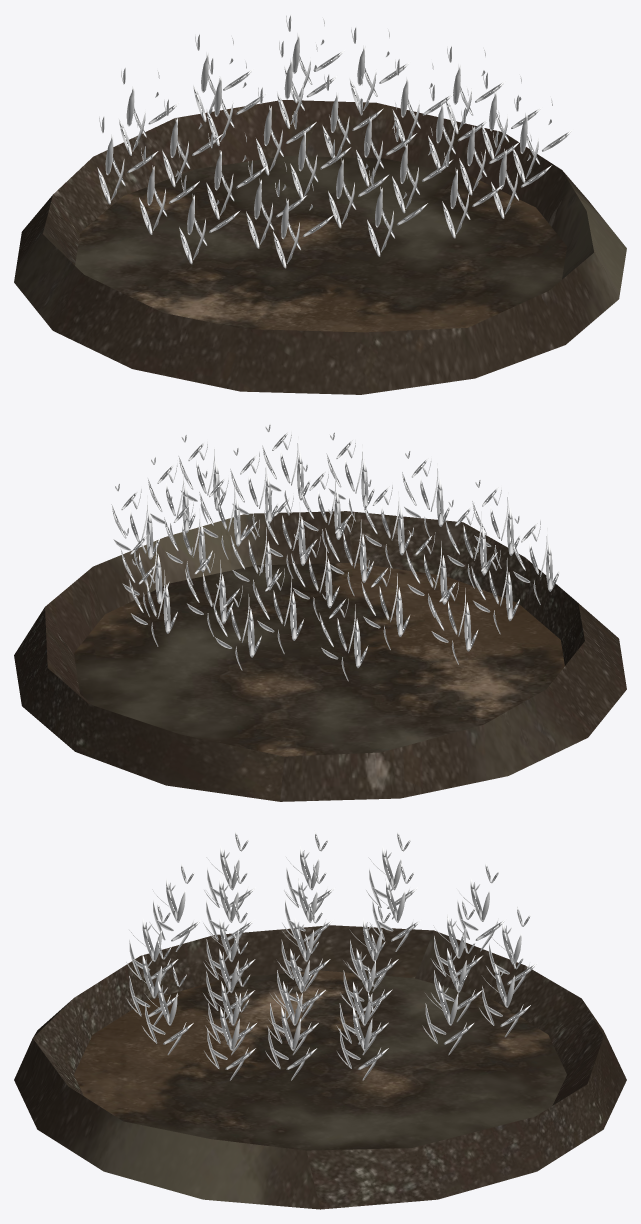
Rendered from RicePaddy_SegmentFull(1).glb.
3 renders of one model, top to bottom at view 1: azimuth 30°, elevation 25°; view 2: azimuth 150°, elevation 25°; view 3: azimuth 270°, elevation 25°, orthographic.
Parts seen in each view (by area): view 1: Circle; view 2: Circle; view 3: Circle.
Boxes of the visible parts, x1=… form: Circle: x1=14, y1=100, x2=626, y2=394; Circle: x1=14, y1=511, x2=626, y2=801; Circle: x1=14, y1=925, x2=626, y2=1209.
Size of the model in its own units: 2 by 0.5895 by 2.
3 materials, 2 textured.
